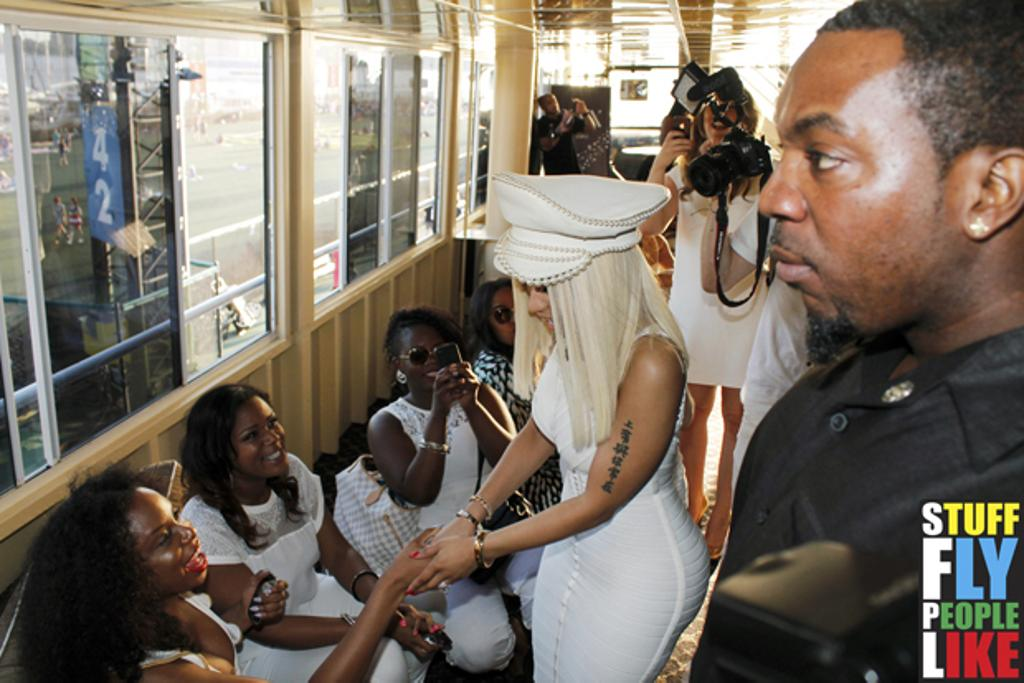face: (756, 49, 952, 330), (133, 501, 208, 587), (526, 266, 598, 340), (233, 405, 287, 477), (402, 331, 450, 398), (491, 293, 542, 348), (703, 91, 737, 143), (546, 97, 559, 113)
